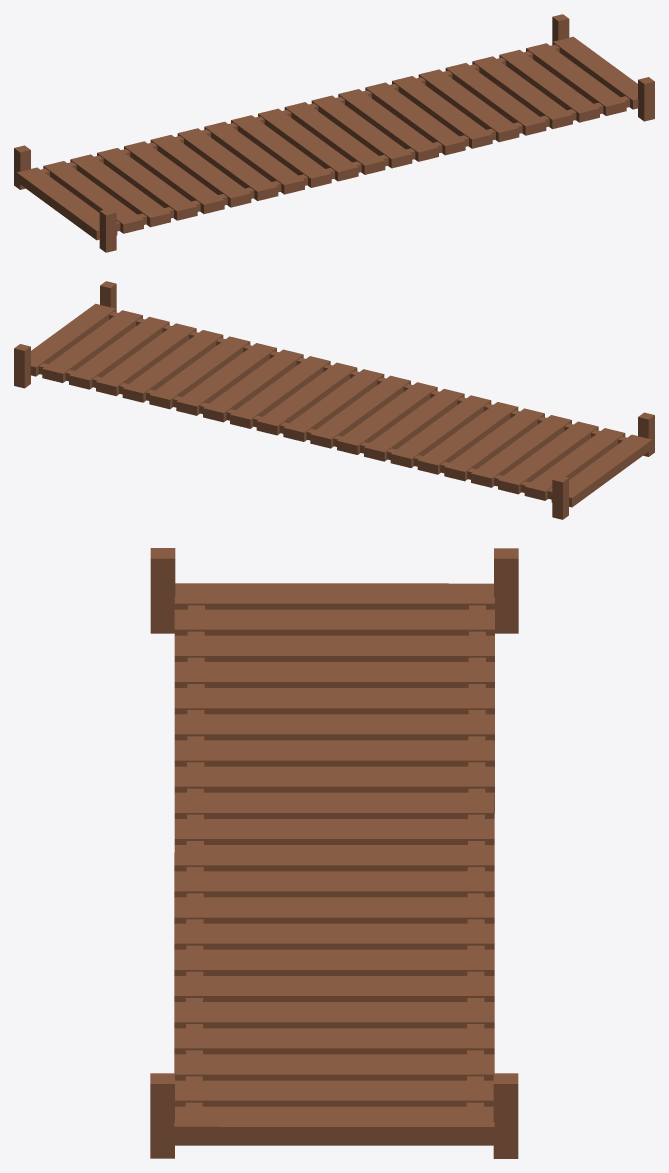
Rendered from Puente.fbx.
3 renders of one model, top to bottom at view 1: azimuth 30°, elevation 25°; view 2: azimuth 150°, elevation 25°; view 3: azimuth 270°, elevation 25°, orthographic. The views are drawn at different scales.
Visible parts, largest first — view 1: Rio; view 2: Rio; view 3: Rio.
Boxes of the visible parts, bbox=[...] form: Rio: bbox=[14, 14, 654, 252]; Rio: bbox=[14, 281, 654, 519]; Rio: bbox=[150, 548, 518, 1158].
Size of the model in its own units: 208 by 13.36 by 59.56.
